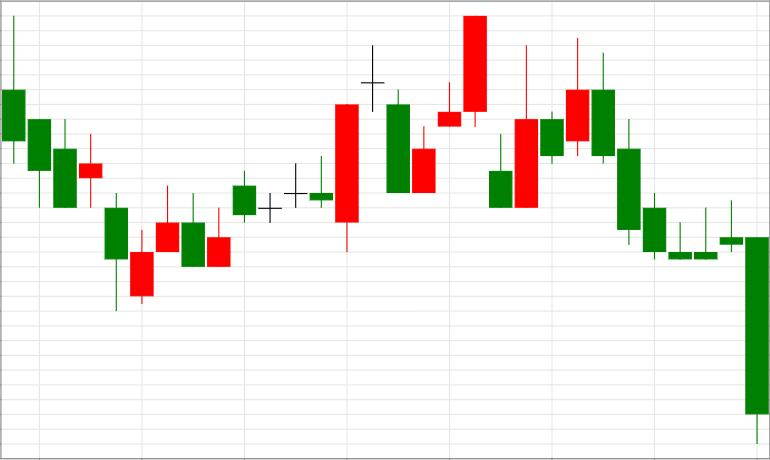evening_star_fall: (130, 44, 409, 303)
